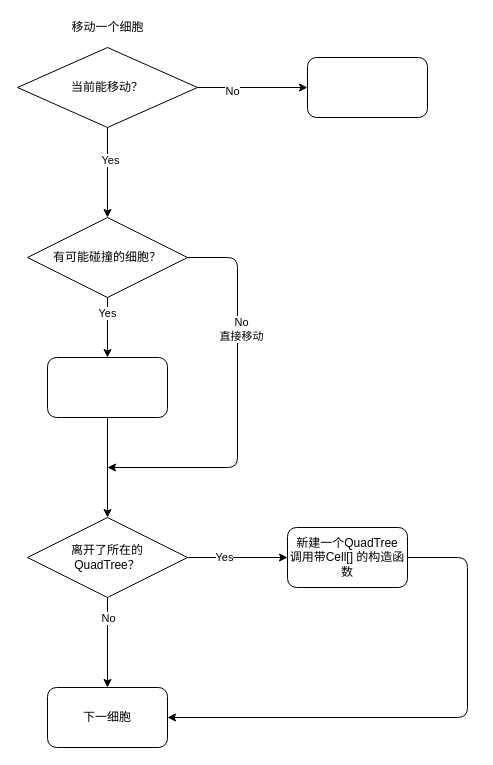
Image size: 493x765. Some labels were removed from this diagram. The shapes that lost their labels are listed below. From the top down, each one's centre as x and y in pixels, then its label:
At point 367,87: "判断下一细胞".
At point 107,387: "计算可以移动的距离".
